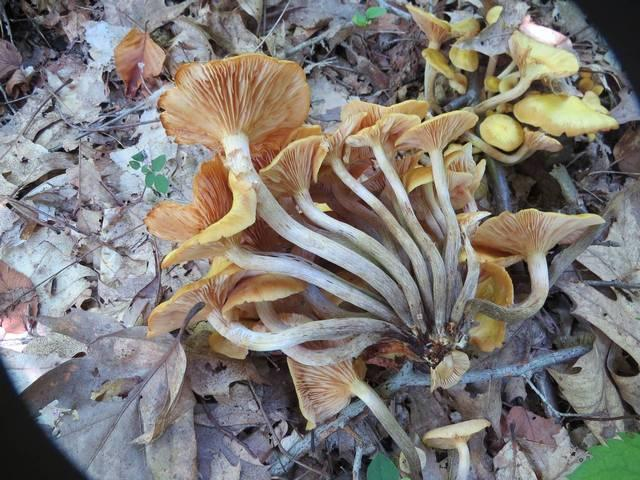edible_mushroom: (143, 50, 607, 475)
